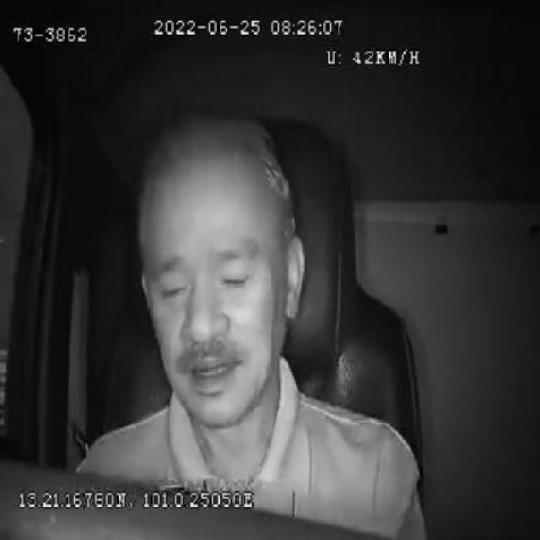phone: (70, 466, 216, 498)
